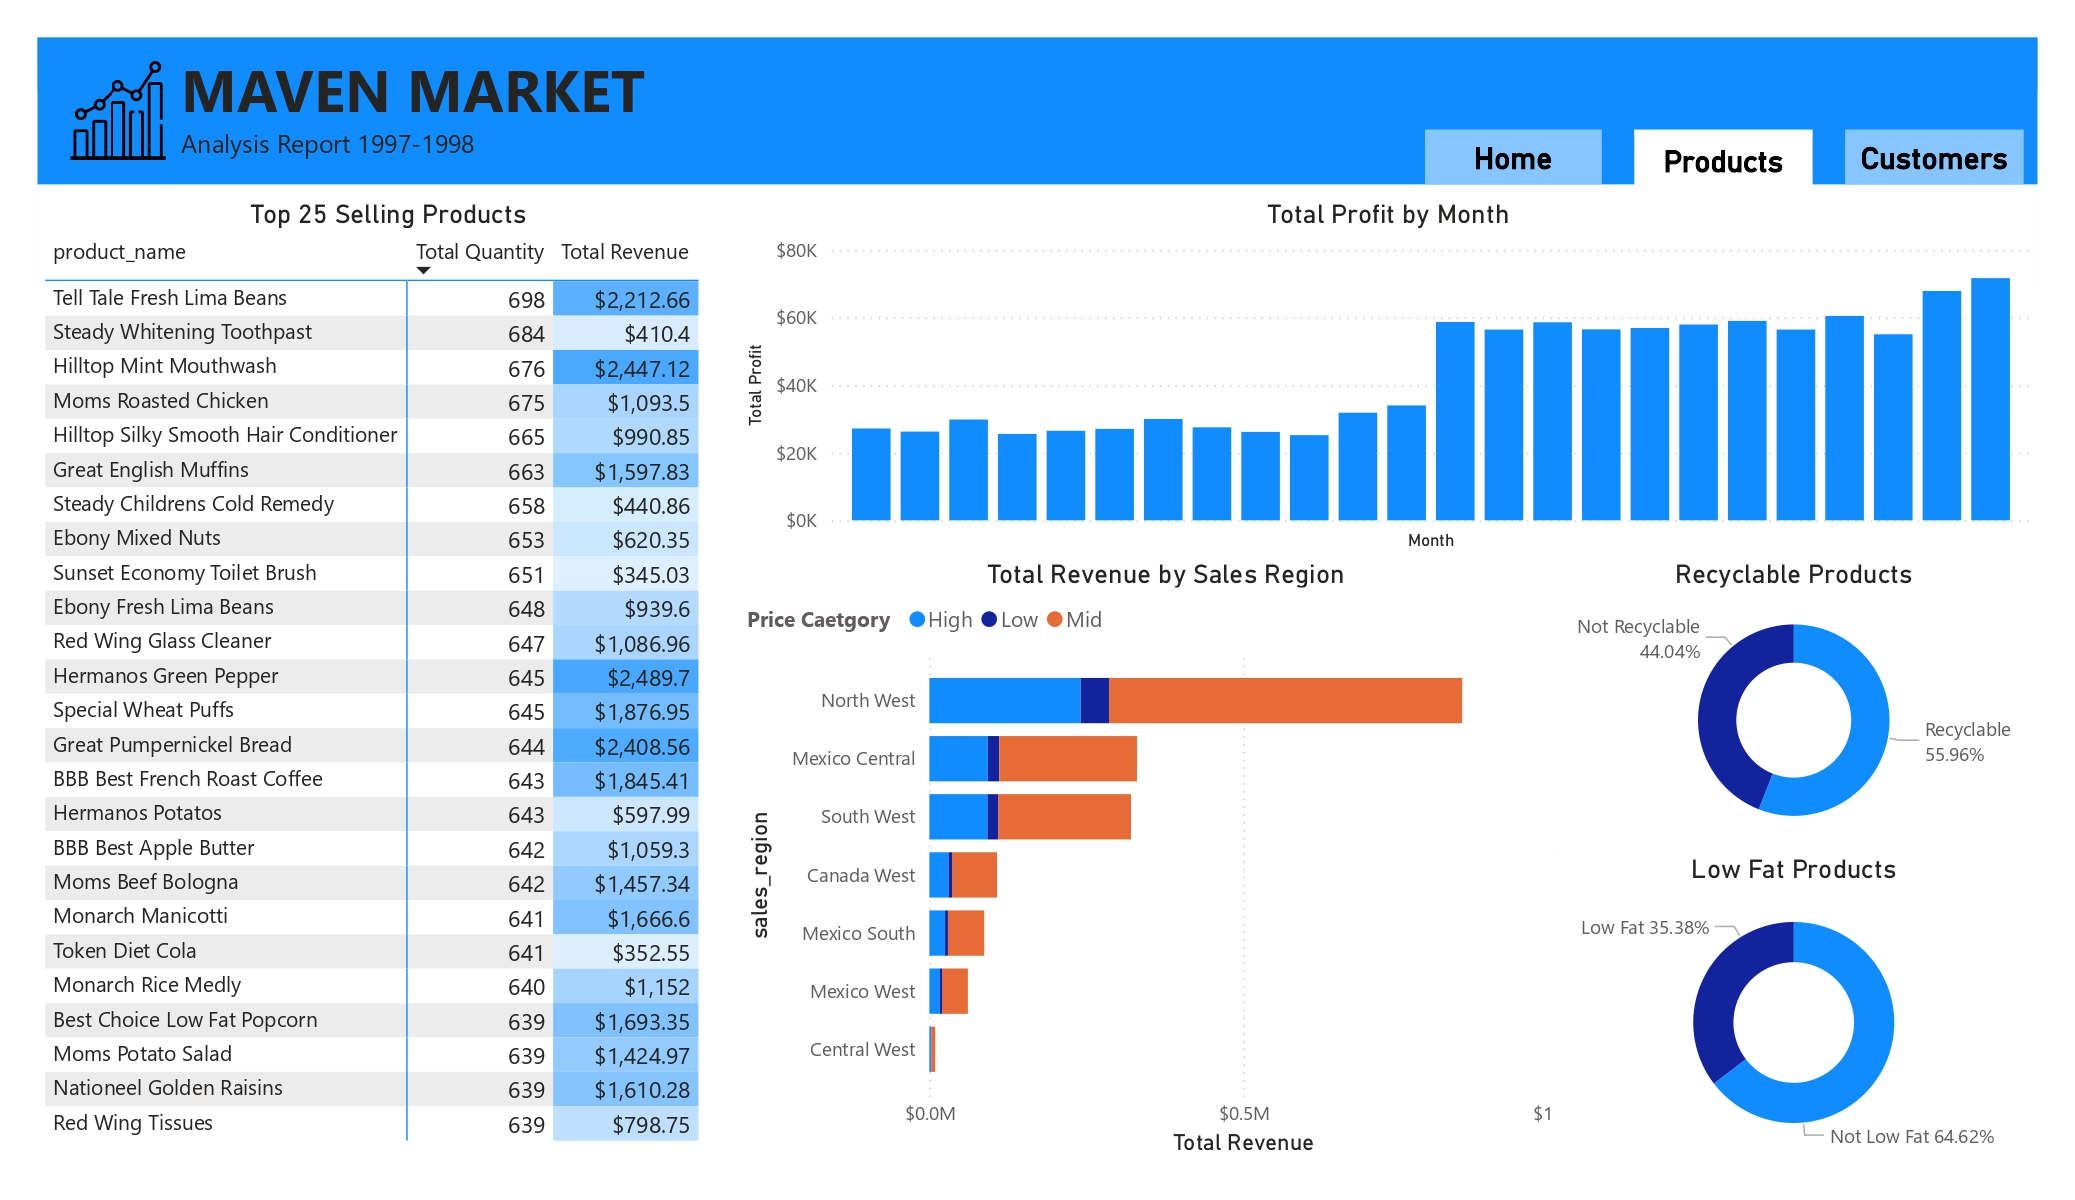

What the dashboard file says about the page in this screenshot:
{"tool":"powerbi","page":{"name":"Products","canvas":[1280,720],"ordinal":1},"visuals":[{"type":"shape","box":[0,0,1280.3,94.2],"z":0},{"type":"image","box":[4.9,9.6,91.7,73.4],"z":1000},{"type":"textbox","box":[87,3.5,382.7,85.6],"z":2000},{"type":"pivotTable","title":"Top 25 Selling Products","fields":{"Rows":["Products.product_name"],"Values":["Measure Set.Total Quantity","Measure Set.Total Revenue"]},"box":[0,102.7,448.8,617.5],"z":3000},{"type":"clusteredColumnChart","title":"Total Profit by Month","fields":{"Y":["Measure Set.Total Profit"],"Category":["Calendar.End of Month.Variation.Date Hierarchy.Year","Calendar.End of Month.Variation.Date Hierarchy.Month"]},"box":[448.8,102.7,831.5,229.9],"z":4000},{"type":"barChart","title":"Total Revenue by Sales Region","fields":{"Category":["Regions.sales_region"],"Y":["Measure Set.Total Revenue"],"Series":["Products.Price_Tier"]},"box":[448.8,332.6,541.7,387.6],"z":5000},{"type":"donutChart","title":"Recyclable Products","fields":{"Category":["Products.recyclable"],"Y":["Measure Set.Unique Products"]},"box":[968.5,332.6,311.8,189.5],"z":6000},{"type":"donutChart","title":"Low Fat Products","fields":{"Y":["Measure Set.Unique Products"],"Category":["Products.low_fat"]},"box":[968.5,522.1,311.8,198.1],"z":7000},{"type":"actionButton","title":"Home","box":[887.8,58.7,113.7,35.5],"z":8000},{"type":"actionButton","title":"Home","box":[1022.3,58.7,113.7,39.1],"z":9000},{"type":"actionButton","title":"Home","box":[1156.8,58.7,113.7,35.5],"z":10000}]}

Visuals, with their boxes on the page's 1280x720 design canvas (x1, y1, x2, y2). These are canvas units, not pixel positions in the 2075x1200 screenshot, which may show the page scaled, cropped or inside an application window:
shape: region(0, 0, 1280, 94)
image: region(5, 10, 97, 83)
textbox: region(87, 4, 470, 89)
"Top 25 Selling Products" pivotTable: region(0, 103, 449, 720)
"Total Profit by Month" clusteredColumnChart: region(449, 103, 1280, 333)
"Total Revenue by Sales Region" barChart: region(449, 333, 990, 720)
"Recyclable Products" donutChart: region(968, 333, 1280, 522)
"Low Fat Products" donutChart: region(968, 522, 1280, 720)
"Home" actionButton: region(888, 59, 1002, 94)
"Home" actionButton: region(1022, 59, 1136, 98)
"Home" actionButton: region(1157, 59, 1270, 94)
